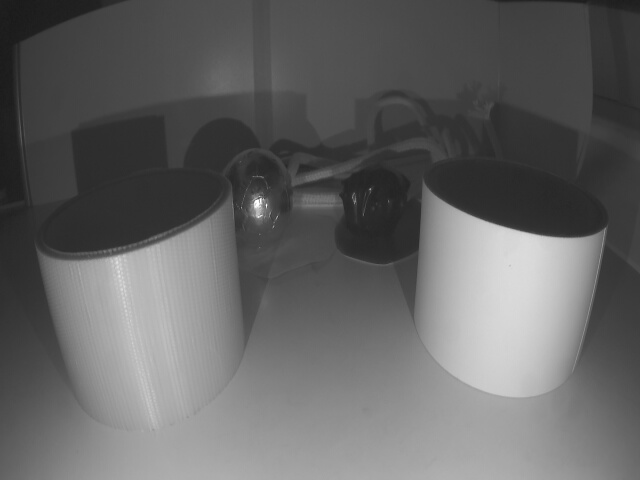Dead: (340, 167, 410, 240)
Live: (221, 144, 292, 246)
